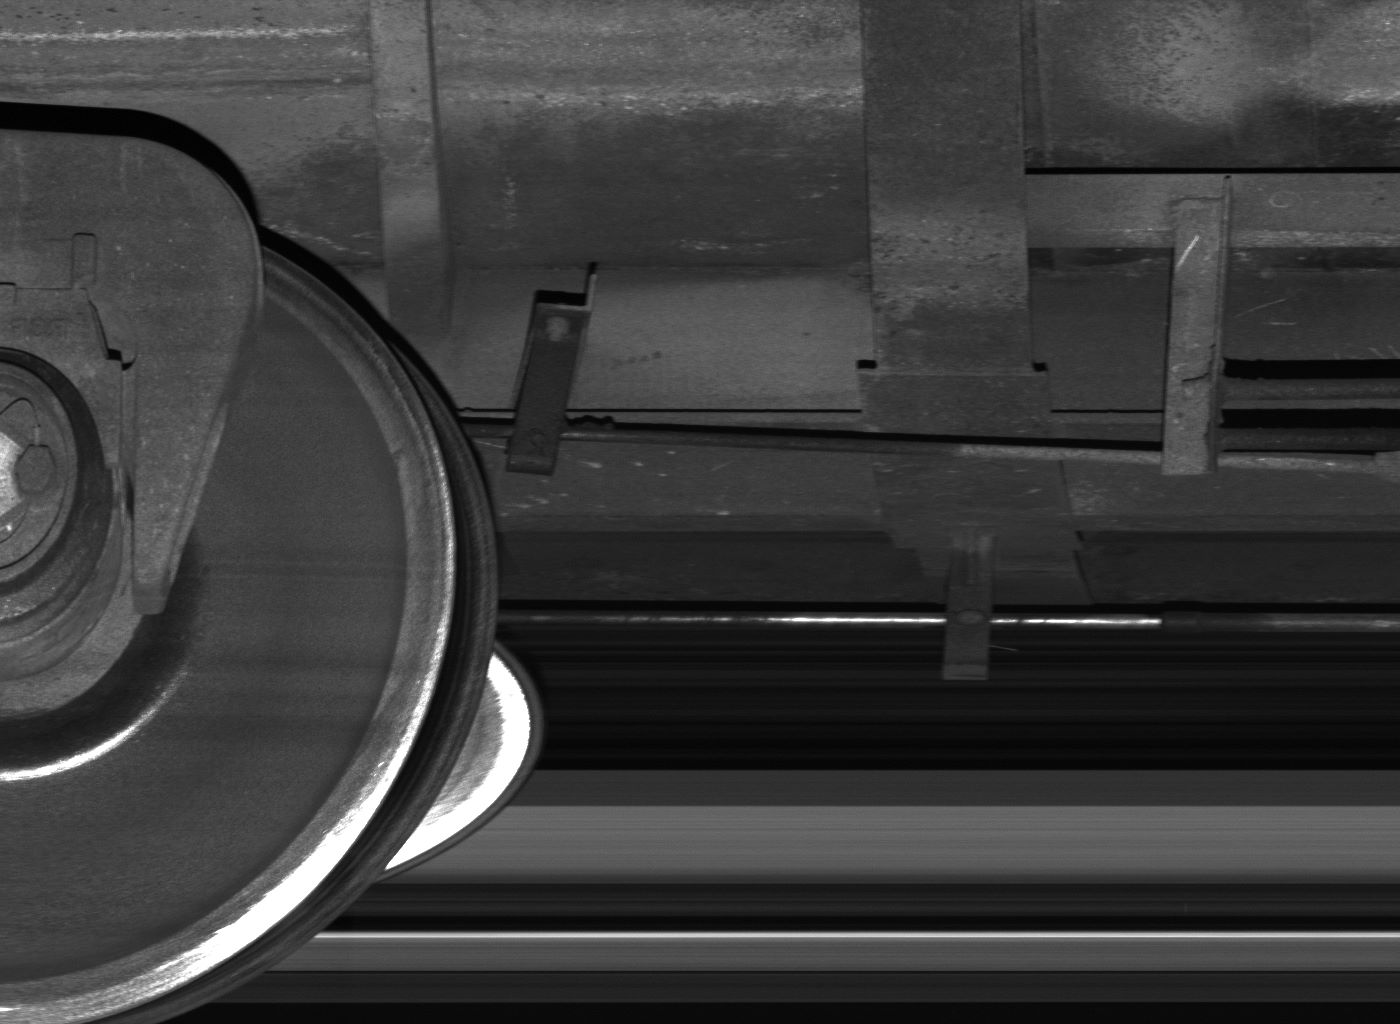normal: (505, 274, 597, 476), (942, 532, 995, 680)
